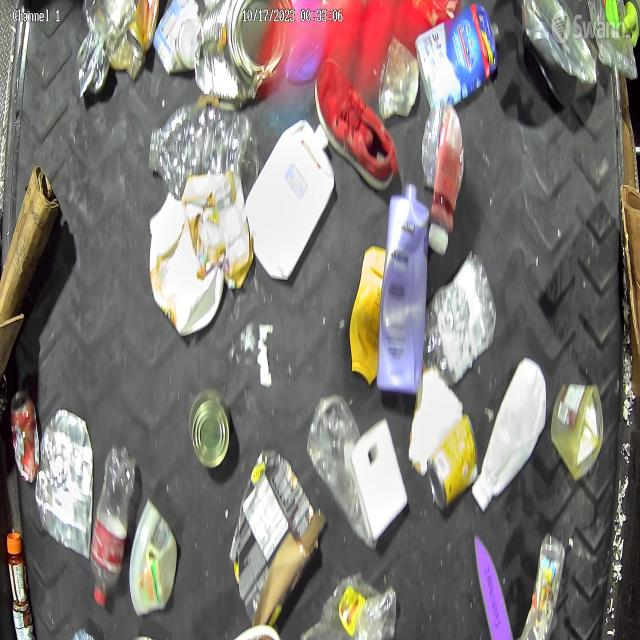can: (195, 0, 286, 101), (430, 414, 479, 511), (192, 392, 232, 472), (10, 390, 40, 482), (132, 0, 162, 47)
milk_jug: (246, 119, 334, 280), (475, 358, 549, 512)
non_white_jug: (376, 182, 429, 394), (150, 190, 224, 337), (349, 246, 386, 386)
plastic_bottle: (423, 252, 497, 384), (148, 102, 260, 183), (90, 445, 136, 605), (518, 534, 565, 640)
